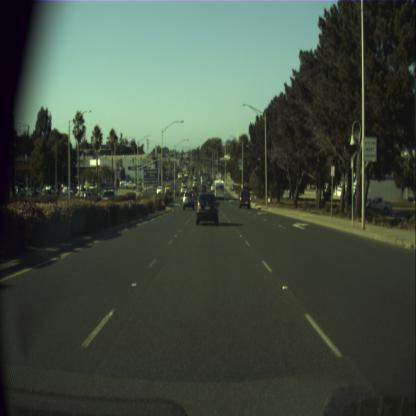Red: (187, 154, 189, 159)
